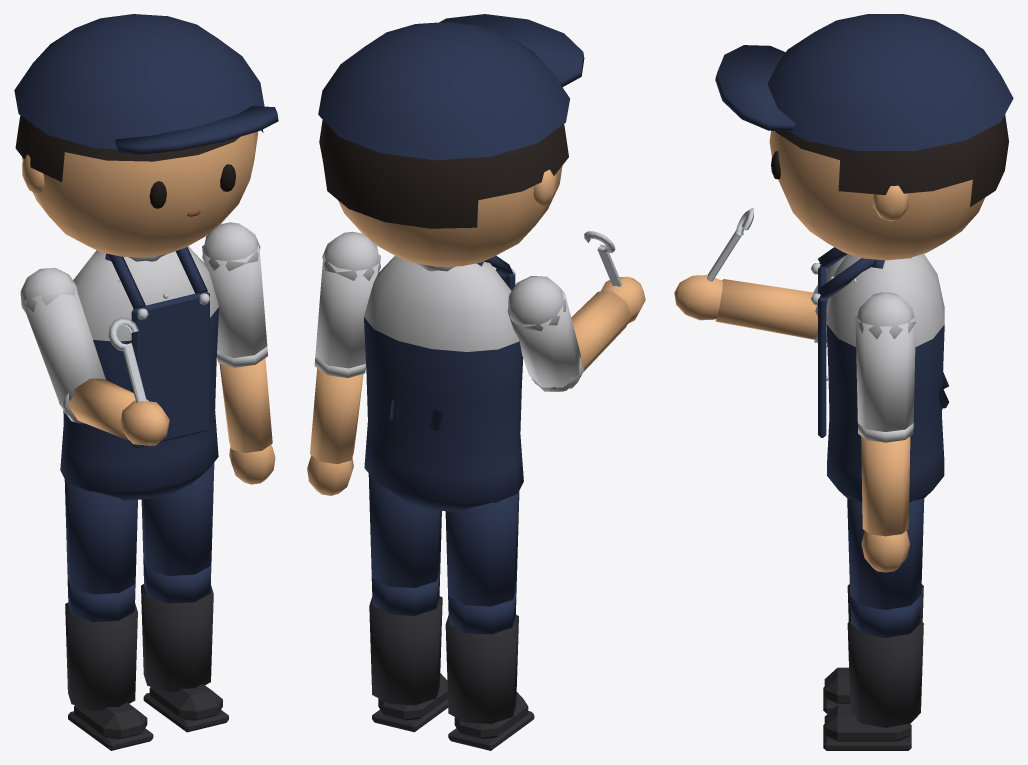
Rendered from east_mechanic.glb.
The picture shows the model from 3 angles, left to right: view 1: azimuth 30°, elevation 25°; view 2: azimuth 150°, elevation 25°; view 3: azimuth 270°, elevation 25°; orthographic projection.
Parts seen in each view (by area): view 1: head, body, shin_R, shin_L, leg_R, arm_R, arm_L, leg_L, forearm_L, forearm_R, prop_wrench; view 2: head, body, shin_R, shin_L, leg_R, arm_L, leg_L, arm_R, forearm_L, forearm_R, prop_wrench; view 3: head, body, shin_L, arm_L, forearm_L, forearm_R, leg_L, shin_R, prop_wrench.
Boxes of the visible parts, <box> form: head: <box>14,14,278,257</box>; body: <box>60,246,218,500</box>; shin_R: <box>65,577,153,750</box>; shin_L: <box>141,558,228,732</box>; leg_R: <box>64,479,137,594</box>; arm_R: <box>20,268,105,416</box>; arm_L: <box>202,222,267,357</box>; leg_L: <box>141,462,214,575</box>; forearm_L: <box>216,346,275,484</box>; forearm_R: <box>59,378,169,445</box>; prop_wrench: <box>108,317,146,402</box>; head: <box>318,14,584,266</box>; body: <box>364,255,523,512</box>; shin_R: <box>445,589,534,750</box>; shin_L: <box>369,570,448,732</box>; leg_R: <box>445,491,519,606</box>; arm_L: <box>315,231,380,368</box>; leg_L: <box>368,473,441,587</box>; arm_R: <box>507,276,580,391</box>; forearm_L: <box>307,357,366,495</box>; forearm_R: <box>533,276,645,390</box>; prop_wrench: <box>584,231,622,286</box>; head: <box>715,14,1013,260</box>; body: <box>811,247,948,502</box>; shin_L: <box>823,595,923,750</box>; arm_L: <box>855,292,915,431</box>; forearm_L: <box>858,423,913,572</box>; forearm_R: <box>674,275,827,343</box>; leg_L: <box>847,498,924,609</box>; shin_R: <box>823,584,923,713</box>; prop_wrench: <box>707,208,753,281</box>.
Size of the model in its own units: 0.5627 by 1.48 by 0.6521.
